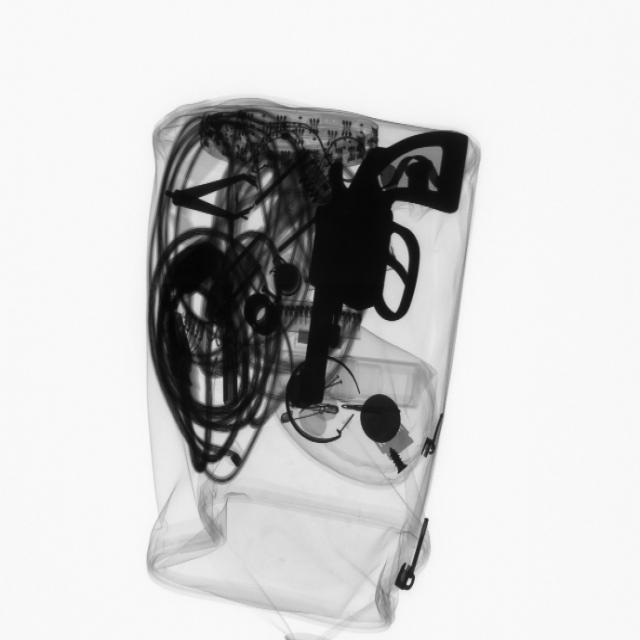GUN: (297, 119, 459, 411)
